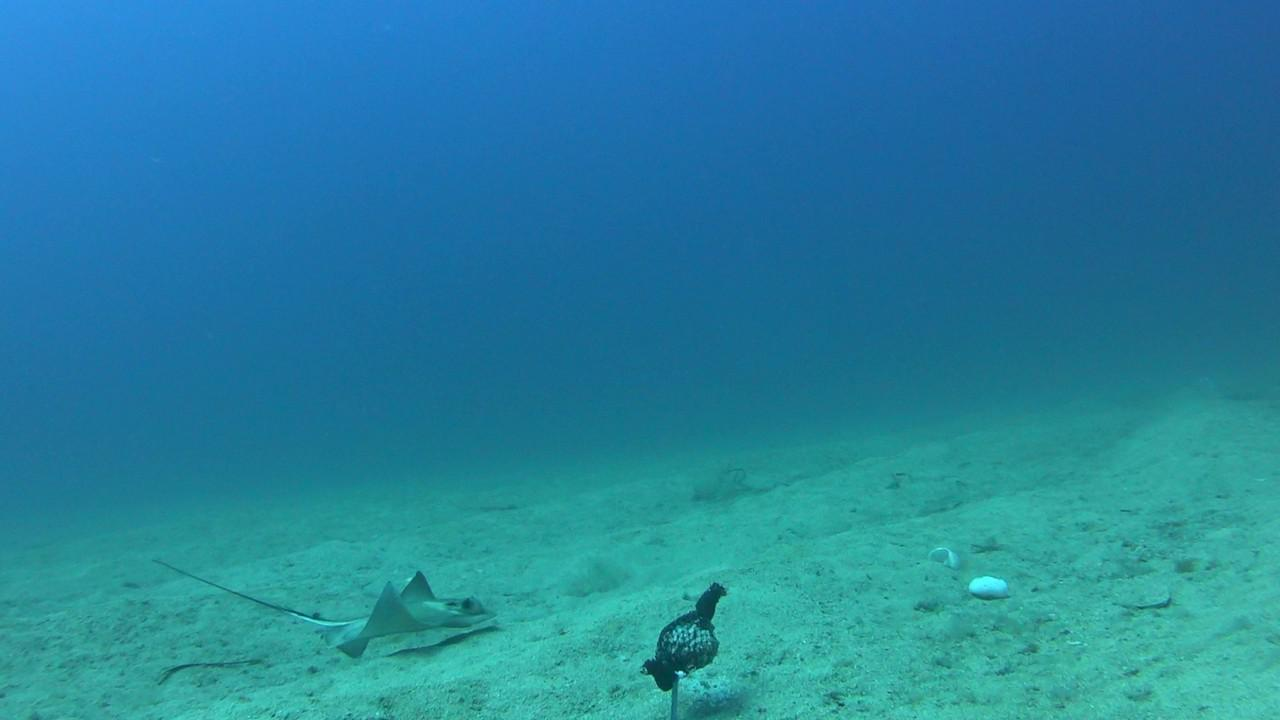myliobatis: (133, 555, 500, 664)
